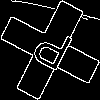P: (25, 25, 76, 81)
